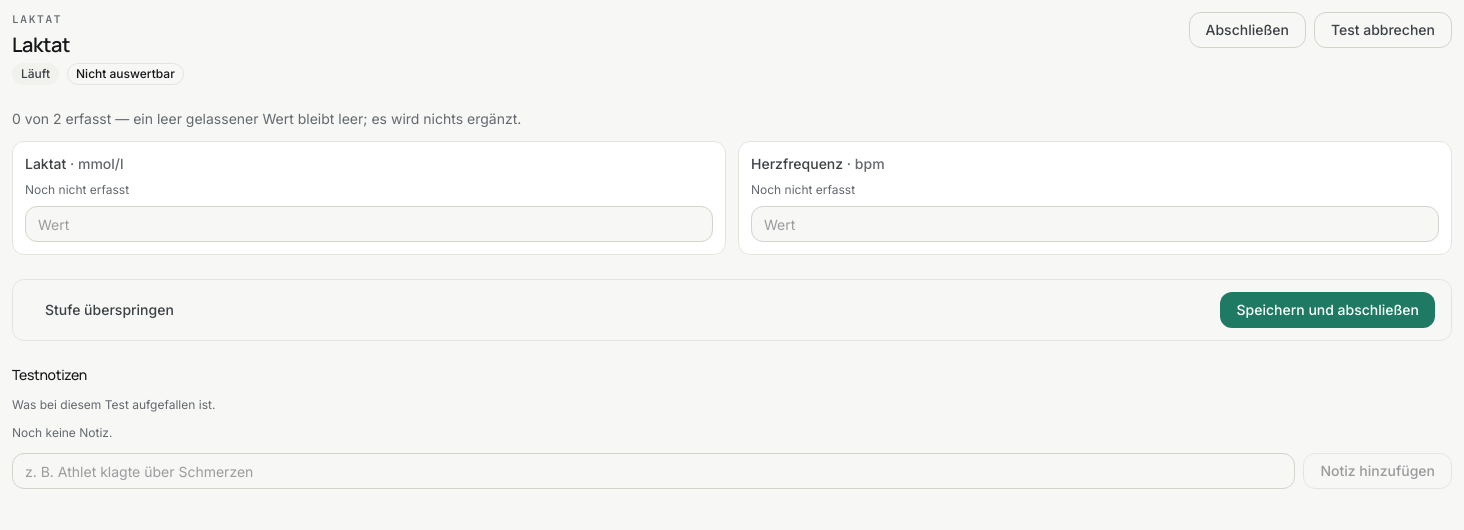
Test: saving a stage › refuses text in a numeric field before sending anything
The width and height of the screenshot is (1464, 530).
In the field labelled "Laktat": (369, 224) [25,206,713,242], type "abc"
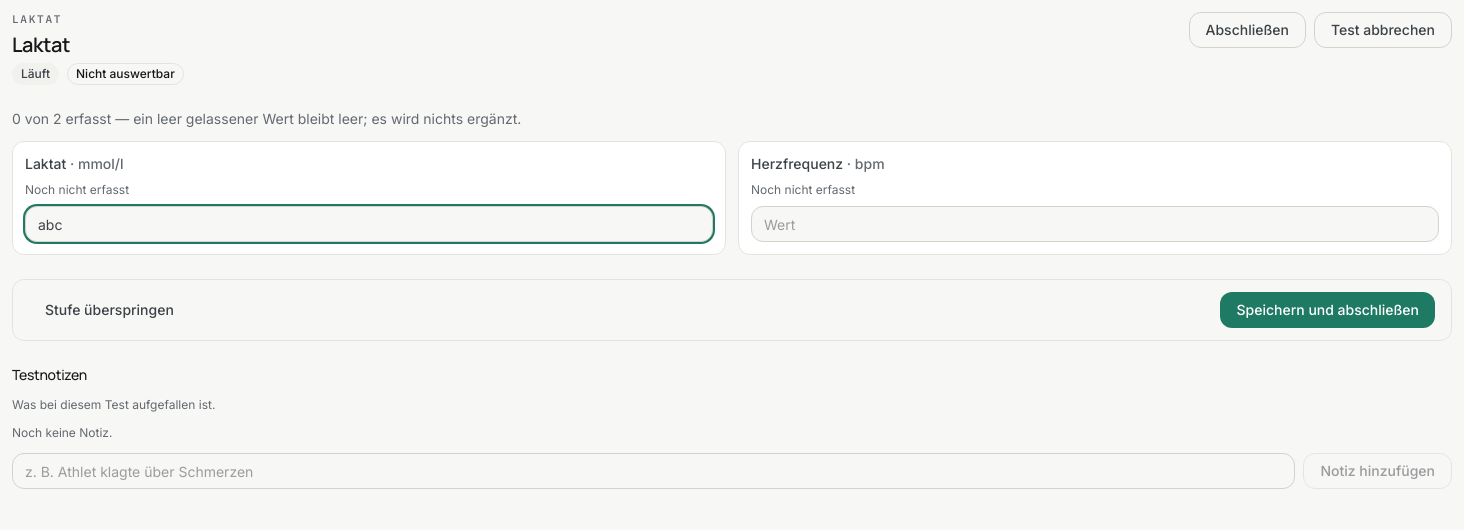
Click the button "Speichern und abschließen": (1328, 310) [1220,292,1435,328]
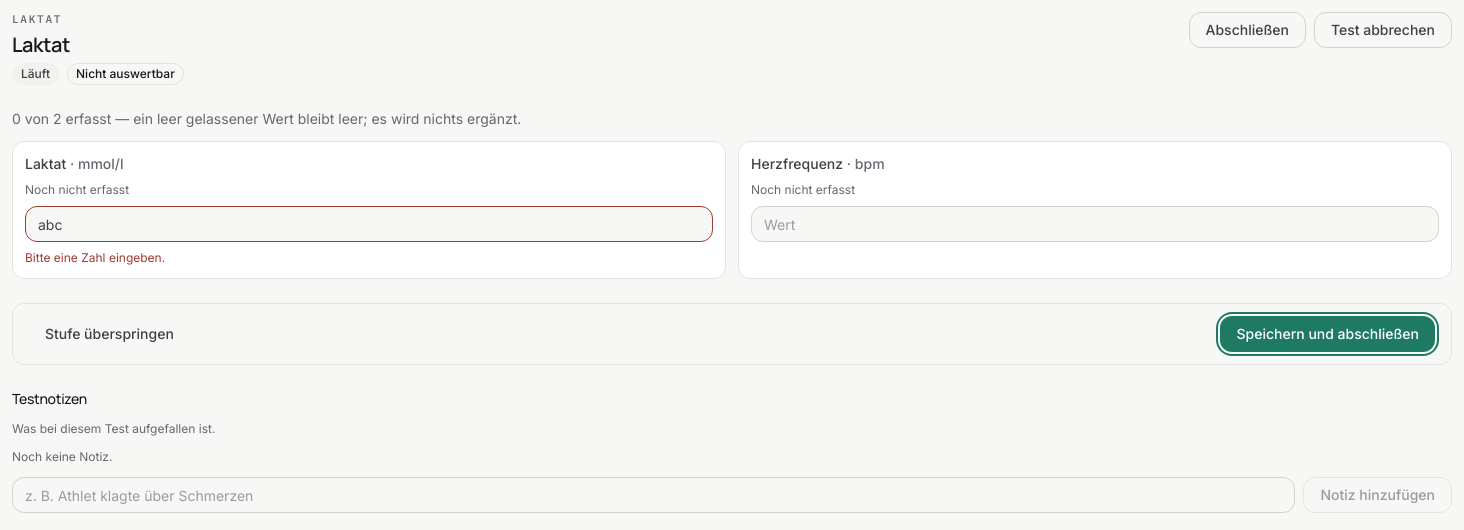
expect the message "Bitte eine Zahl eingeben." is shown: met, box [25,250,165,265]
